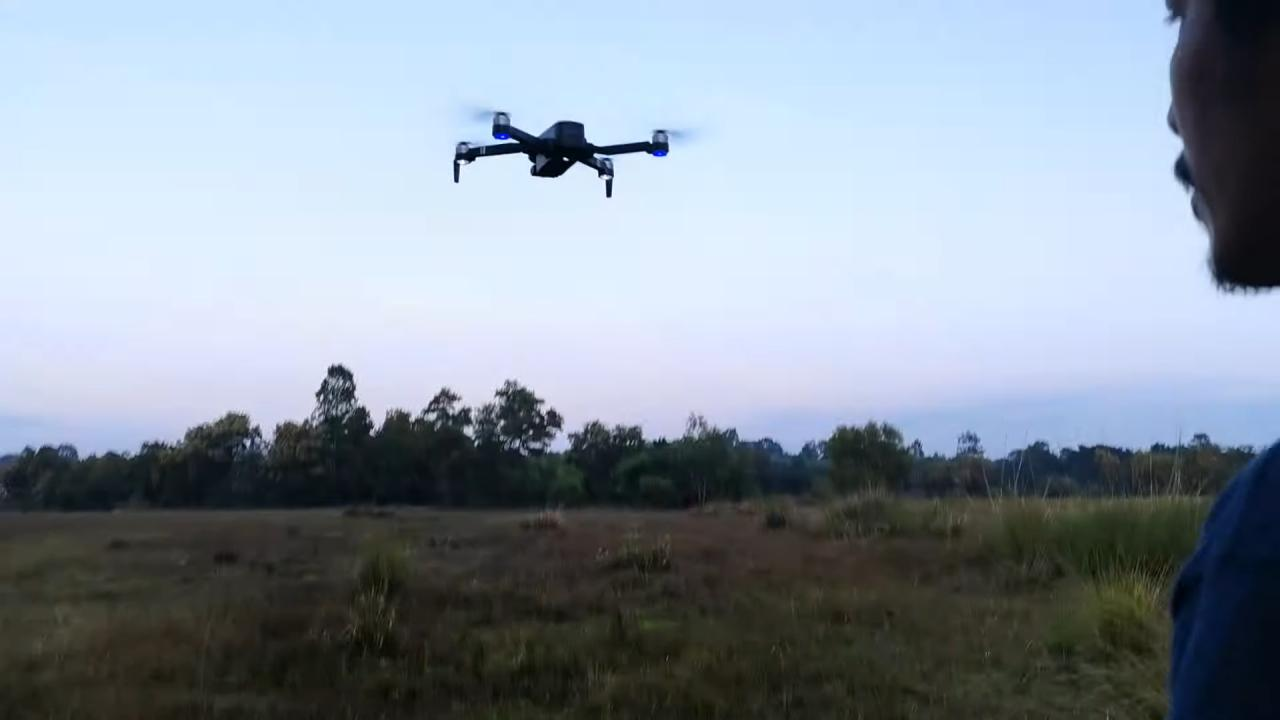Drone: (418, 87, 712, 207)
